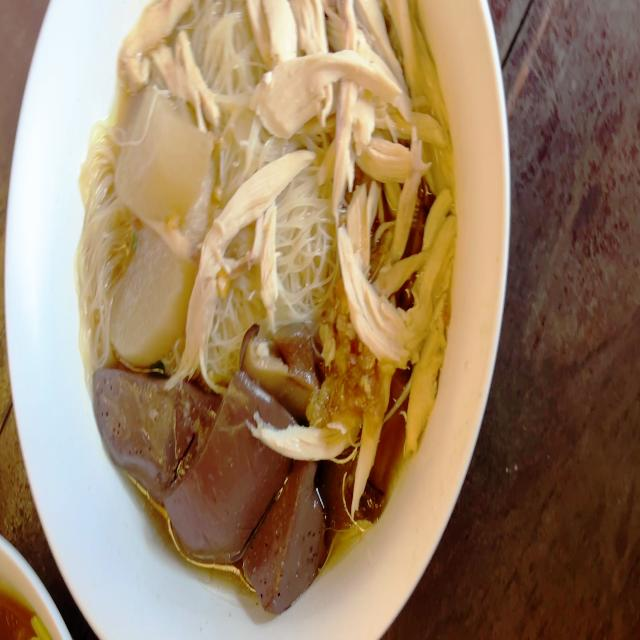boiled_chicken_blood_jelly: (92, 381, 327, 595)
chicken_shredded: (246, 5, 451, 170), (340, 177, 452, 444), (120, 1, 222, 120)
daikon_radish: (119, 86, 207, 375)
noodle: (73, 0, 462, 597)
